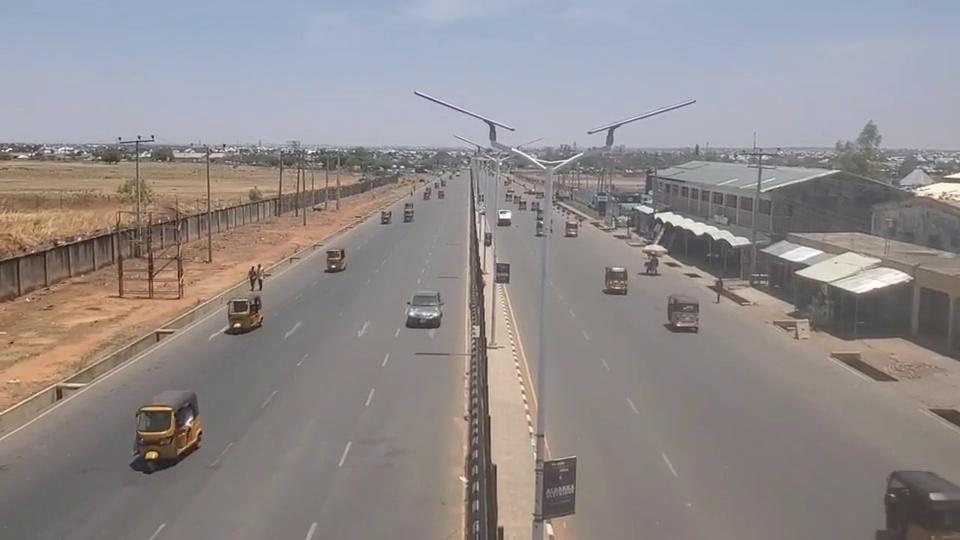car: (405, 289, 444, 326), (498, 209, 511, 224)
keke: (132, 389, 202, 470), (883, 468, 960, 540), (226, 295, 263, 333), (666, 293, 699, 329), (604, 266, 629, 295), (326, 248, 347, 272), (403, 202, 415, 221), (565, 220, 578, 237), (381, 210, 392, 224), (505, 189, 514, 201)
